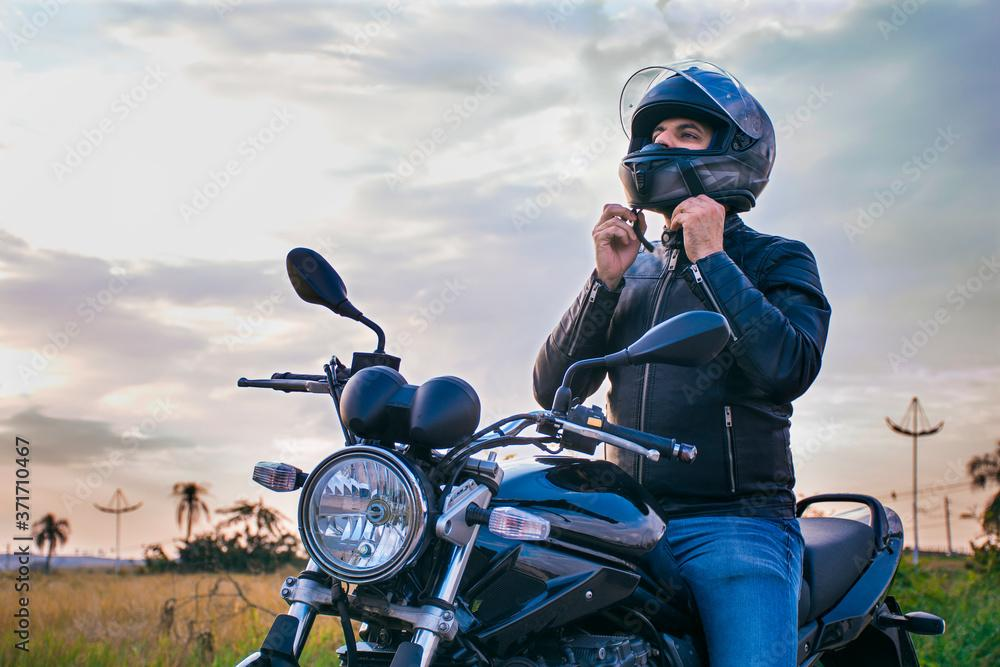helmet: (617, 58, 778, 218)
